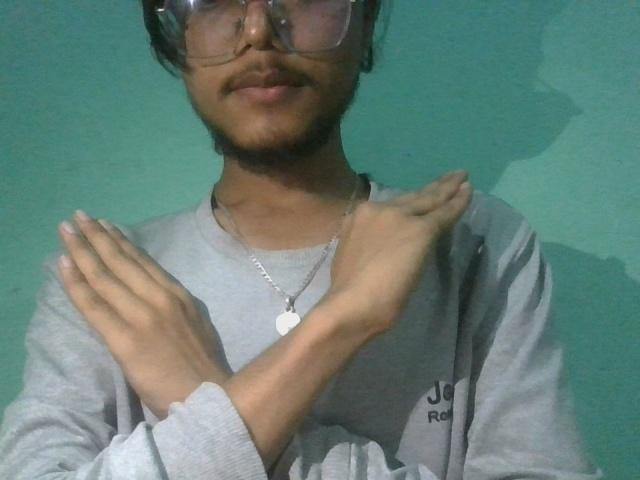dont: (35, 165, 490, 433)
